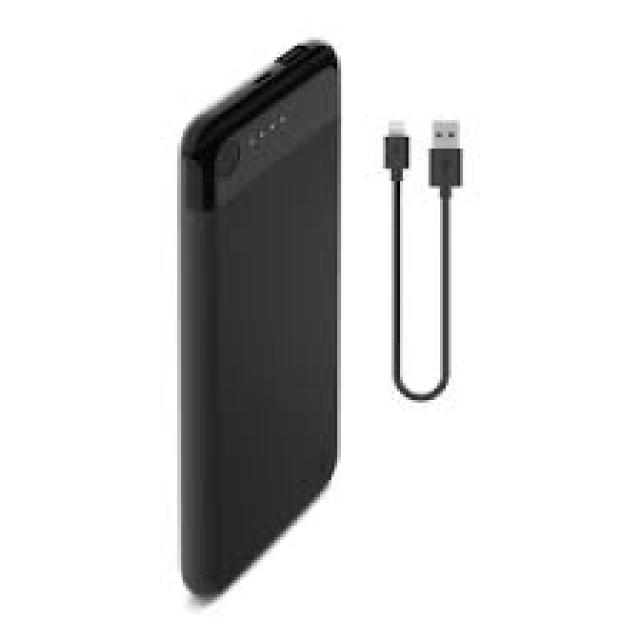power_bank: (176, 39, 349, 608)
